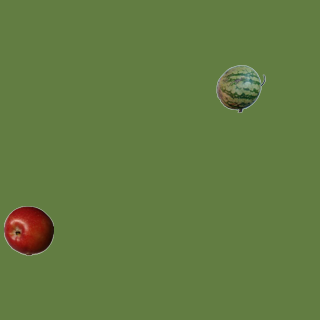Apple Braeburn: (3, 205, 53, 255)
Watermelon: (215, 63, 265, 113)
